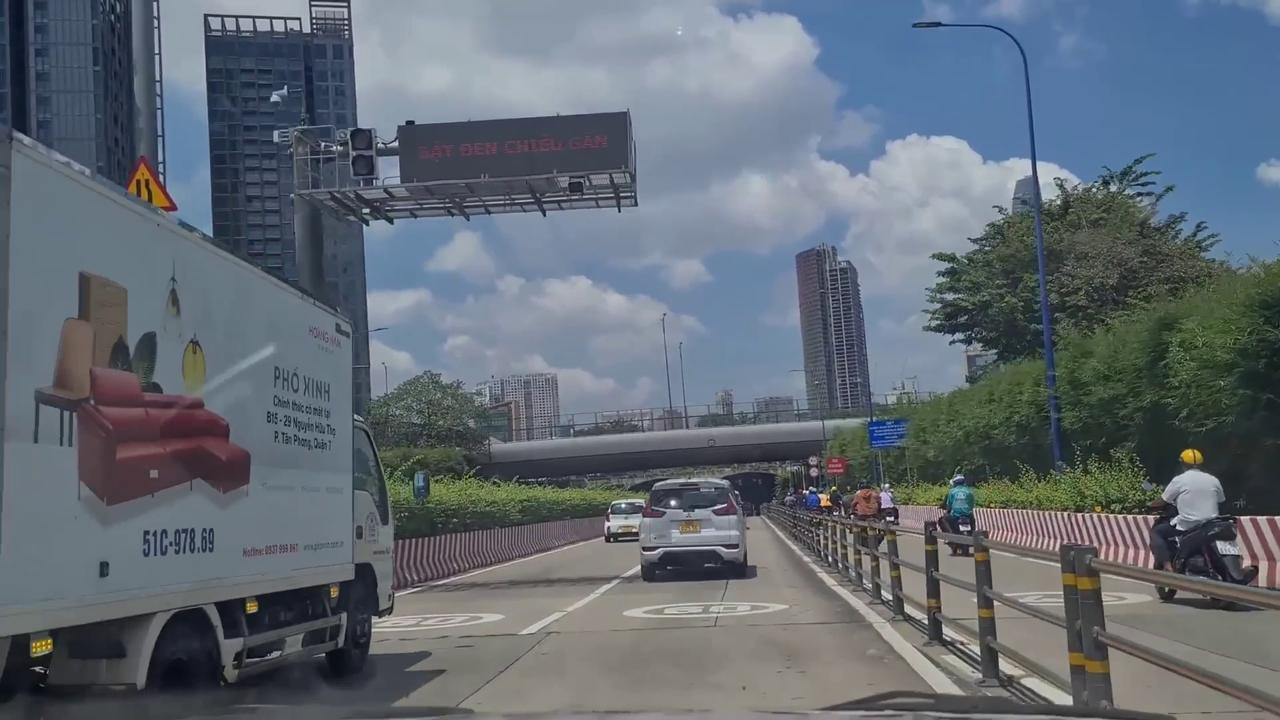Đuờng hẹp: (115, 154, 178, 214)
